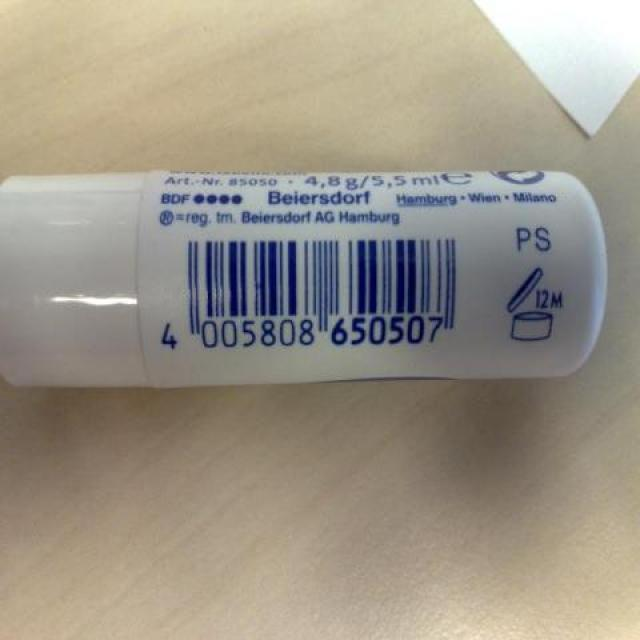Barcode: (154, 232, 473, 360)
